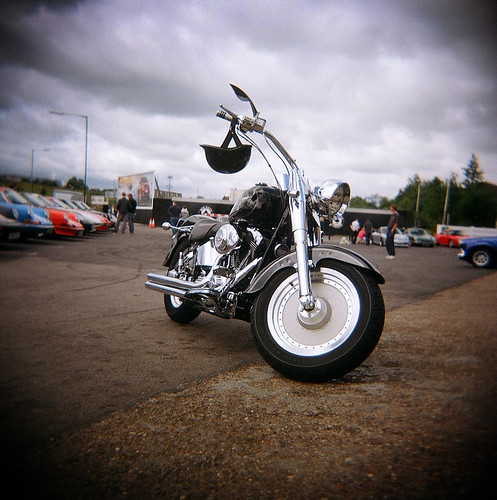helmet: (199, 146, 255, 177)
